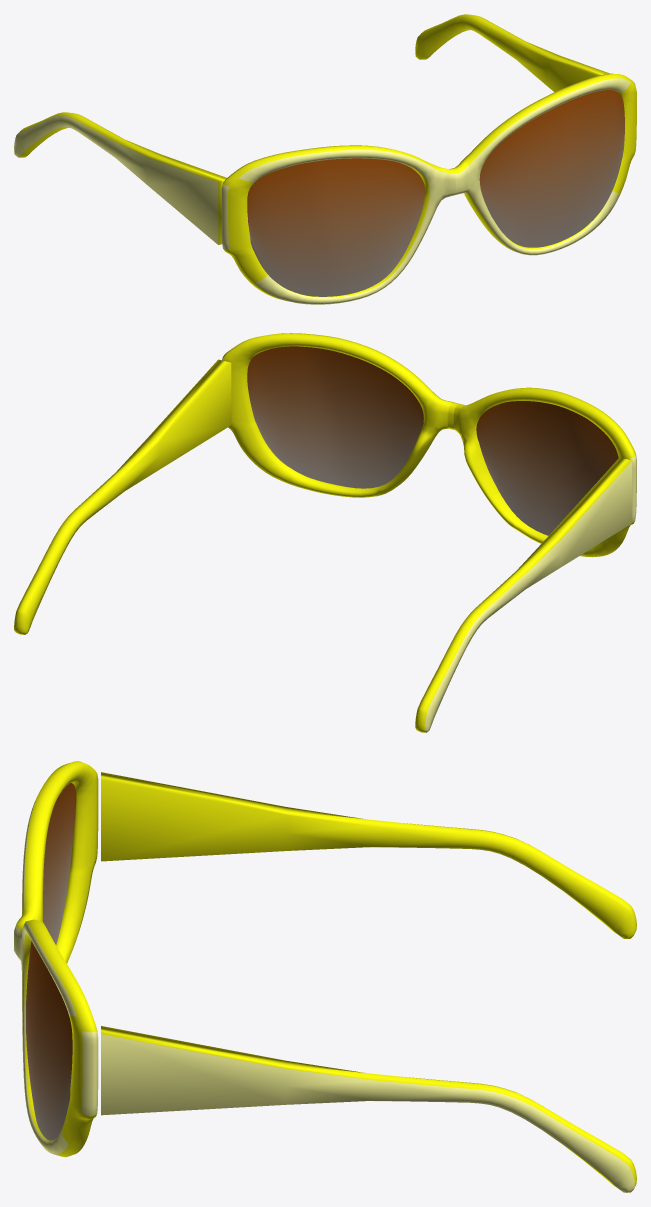
The model's file is yellowglasses.obj.
3 views of the same model, one above another, from view 1: azimuth 30°, elevation 25°; view 2: azimuth 150°, elevation 25°; view 3: azimuth 270°, elevation 25° (orthographic). The views are drawn at different scales.
Size of the model in its own units: 38.98 by 13.99 by 39.16.
Materials: 4 (1 with a texture image).
